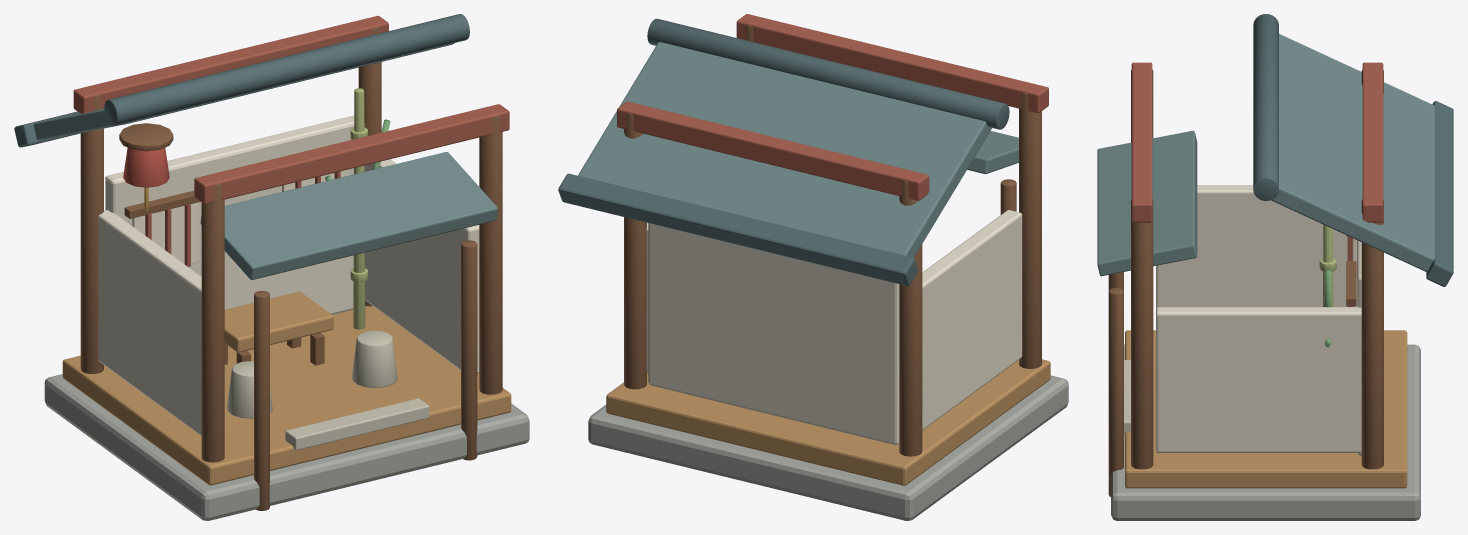
The model's file is building_house_open.glb.
3 renders of one model, left to right at view 1: azimuth 30°, elevation 25°; view 2: azimuth 150°, elevation 25°; view 3: azimuth 270°, elevation 25°, orthographic. The views are drawn at different scales.
Parts seen in each view (by area): view 1: RaisedFloor, FrontAwning, Foundation, LeftScreenWall, RearPlasterWall, RoofRidge, RightScreenWall, TopBeam, TimberPost, TopBeam.001, TimberPost.002, TimberPost.001 (+13 smaller); view 2: RearPlasterWall, Foundation, RaisedFloor, LeftScreenWall, RearEave, TopBeam.001, RoofRidge, TopBeam, TimberPost, TimberPost.001, TimberPost.003, FrontAwning (+43 smaller); view 3: RightScreenWall, LeftScreenWall, RaisedFloor, Foundation, FrontAwning, TimberPost.002, TimberPost.003, RoofRidge, RearEave, TopBeam, TopBeam.001, AwningPost.001 (+33 smaller).
Boxes of the visible parts, x1,y1,x2,y2 form: RaisedFloor: [62, 306, 511, 485]; FrontAwning: [200, 152, 497, 279]; Foundation: [44, 374, 529, 520]; LeftScreenWall: [98, 210, 201, 436]; RearPlasterWall: [105, 115, 364, 314]; RoofRidge: [104, 14, 469, 125]; RightScreenWall: [364, 159, 479, 373]; TopBeam: [194, 104, 509, 204]; TimberPost: [201, 183, 224, 462]; TopBeam.001: [73, 15, 388, 113]; TimberPost.002: [479, 115, 502, 394]; TimberPost.001: [80, 95, 103, 373]; RearPlasterWall: [648, 223, 899, 444]; Foundation: [588, 375, 1068, 520]; RaisedFloor: [606, 359, 1050, 485]; LeftScreenWall: [922, 210, 1022, 430]; RearEave: [558, 173, 918, 286]; TopBeam.001: [617, 101, 929, 200]; RoofRidge: [647, 18, 1009, 129]; TopBeam: [736, 14, 1048, 112]; TimberPost: [1019, 92, 1041, 368]; TimberPost.001: [899, 180, 922, 456]; TimberPost.003: [624, 113, 646, 389]; FrontAwning: [967, 131, 1018, 174]; RightScreenWall: [1156, 307, 1361, 452]; LeftScreenWall: [1156, 185, 1357, 308]; RaisedFloor: [1125, 330, 1407, 488]; Foundation: [1111, 344, 1420, 520]; FrontAwning: [1097, 130, 1197, 276]; TimberPost.002: [1131, 199, 1153, 469]; TimberPost.003: [1361, 199, 1383, 469]; RoofRidge: [1253, 14, 1278, 200]; RearEave: [1426, 101, 1453, 286]; TopBeam: [1131, 62, 1152, 222]; TopBeam.001: [1362, 62, 1383, 222]; AwningPost.001: [1108, 287, 1123, 496].
Bounding box in the file's own units: 2.26 × 2.25 × 2.07.
